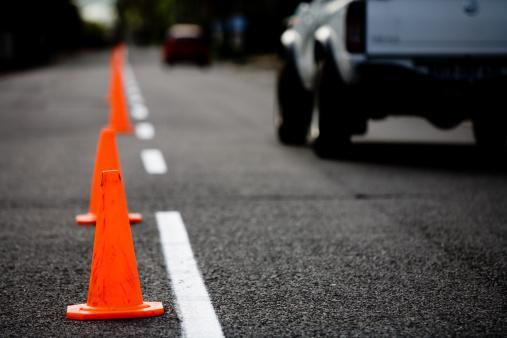Cone: (67, 171, 165, 322), (76, 129, 144, 225), (100, 73, 134, 134)
